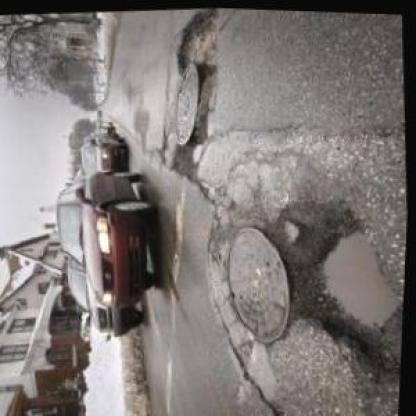pothole: (266, 190, 408, 392), (168, 5, 229, 75), (164, 134, 214, 186)
